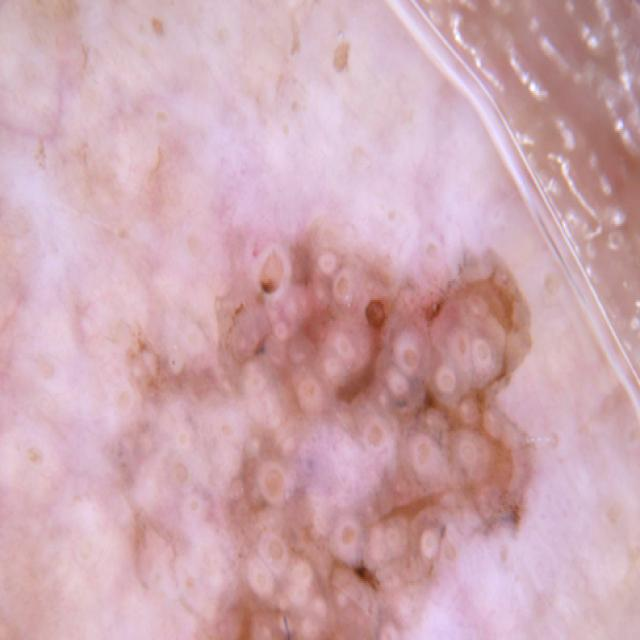Keratosis: (92, 99, 576, 640)
